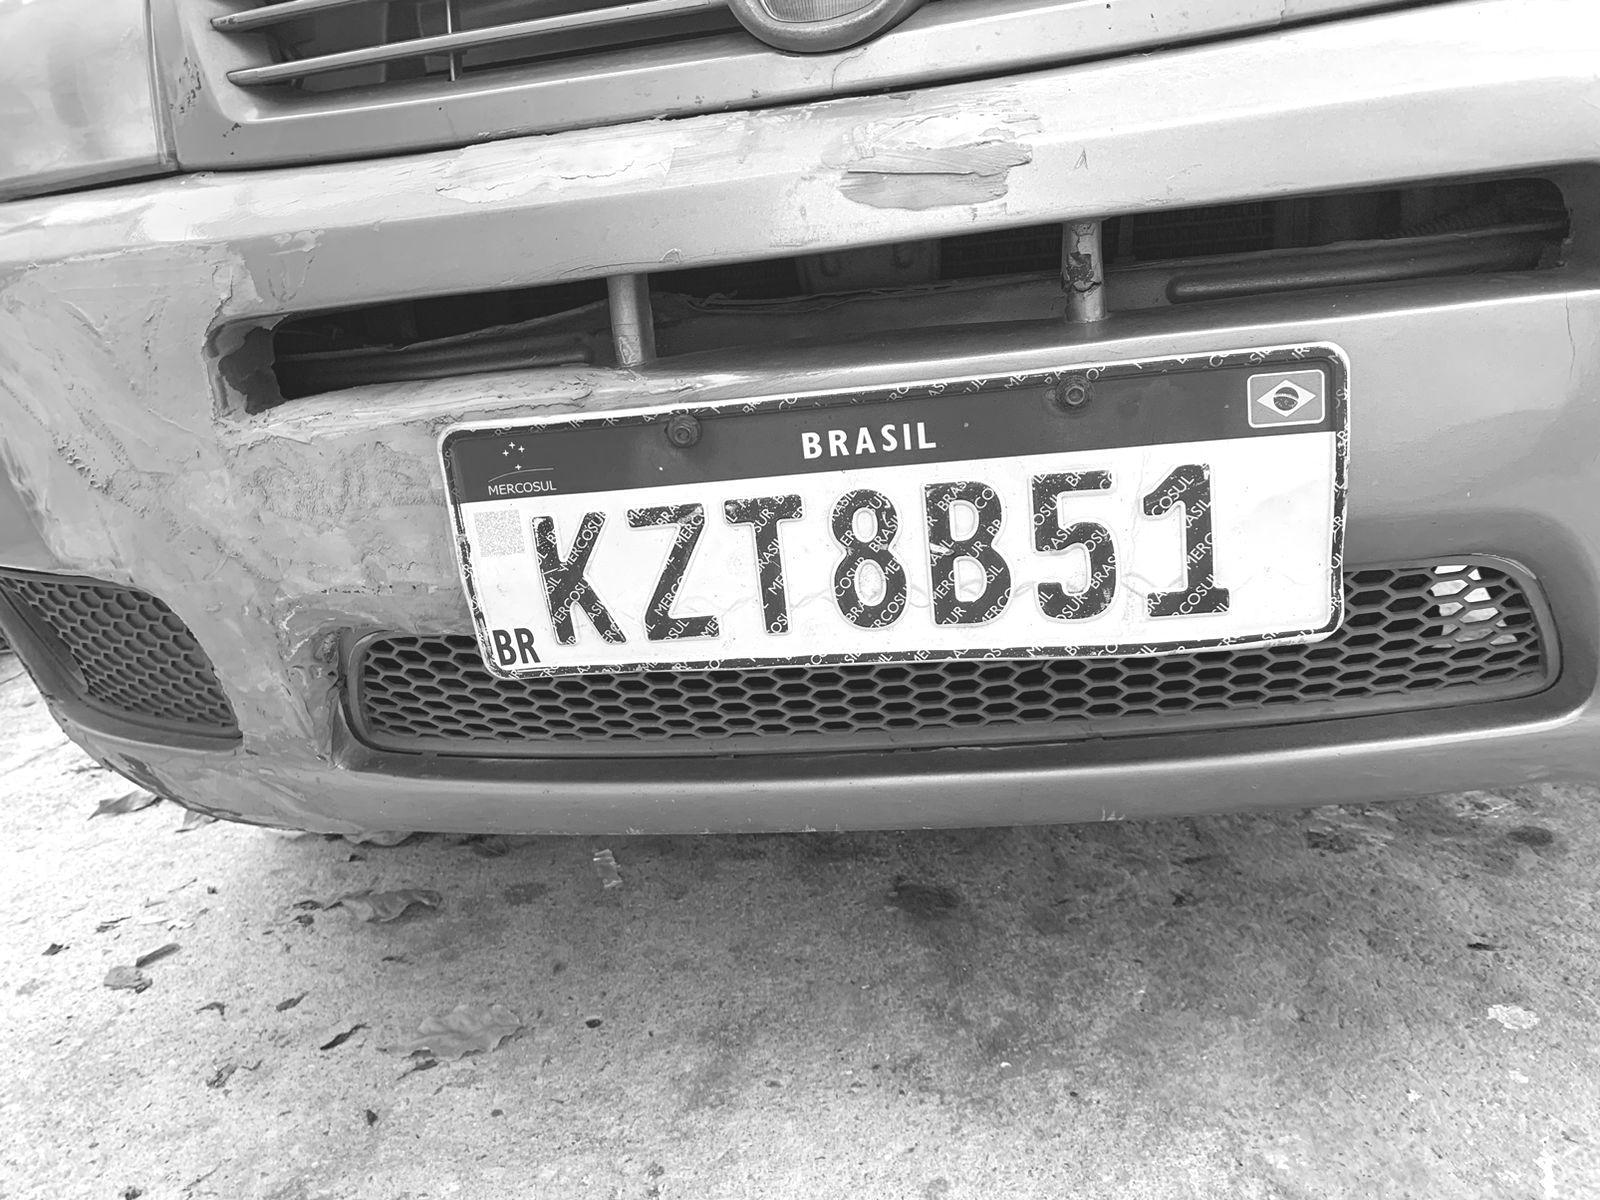placa_mercosul: (443, 344, 1347, 677)
